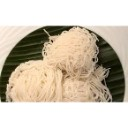idiyappam: (46, 25, 99, 78), (6, 61, 60, 103), (60, 71, 115, 106)
